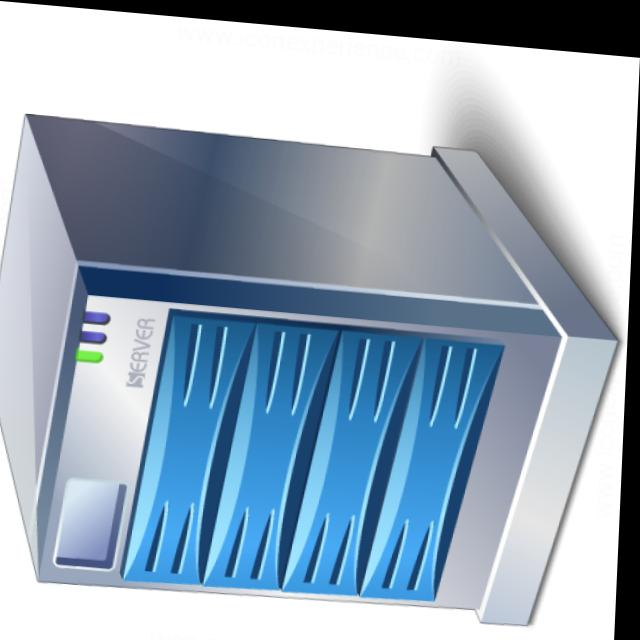Server: (0, 47, 638, 633)
